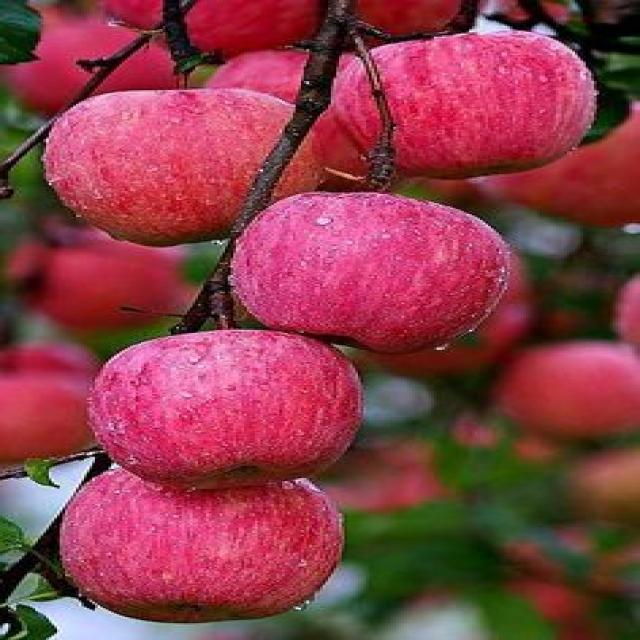Tao: (48, 455, 353, 619), (227, 187, 523, 354), (47, 93, 340, 252), (84, 328, 358, 484), (346, 26, 594, 182), (232, 43, 410, 144)
